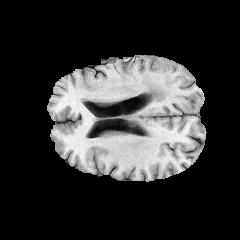glioma: (141, 73, 168, 101)
